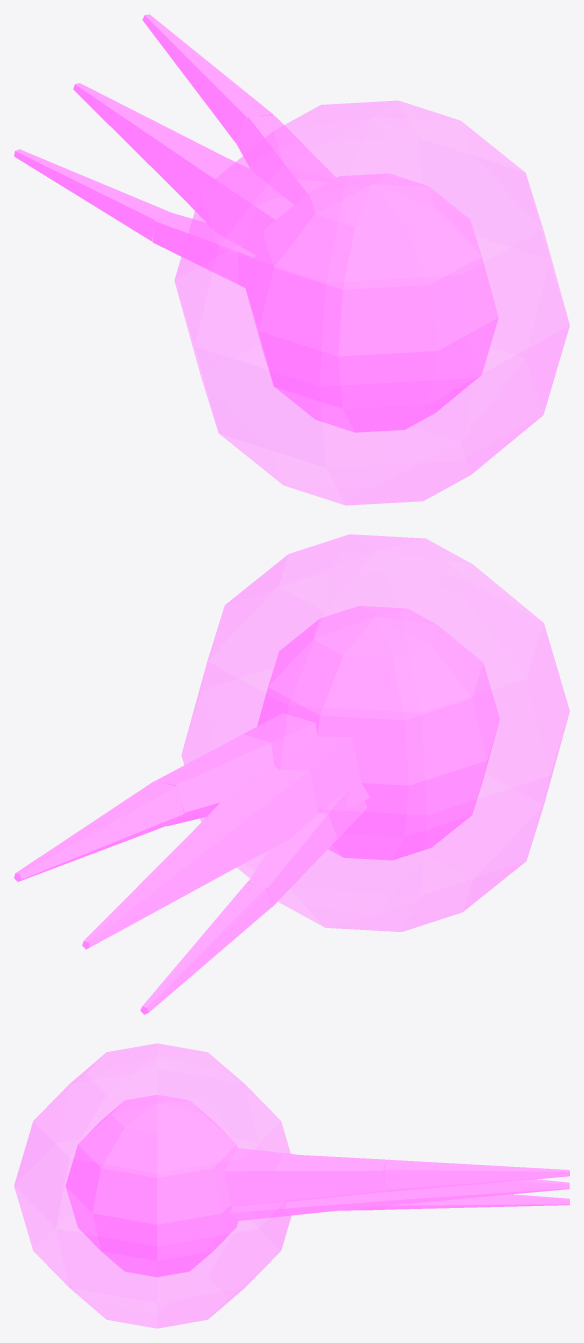
Rendered from fx_wonnyeom_orb.glb.
The picture shows the model from 3 angles, top to bottom: view 1: azimuth 30°, elevation 25°; view 2: azimuth 150°, elevation 25°; view 3: azimuth 270°, elevation 25°; orthographic projection. The views are drawn at different scales.
Parts seen in each view (by area): view 1: fx_wonnyeom_orb; view 2: fx_wonnyeom_orb; view 3: fx_wonnyeom_orb.
Boxes of the visible parts, x1=… form: fx_wonnyeom_orb: x1=14, y1=14, x2=569, y2=505; fx_wonnyeom_orb: x1=14, y1=534, x2=569, y2=1014; fx_wonnyeom_orb: x1=14, y1=1043, x2=569, y2=1328.
Size of the model in its own units: 0.5 by 0.5 by 0.9706.
